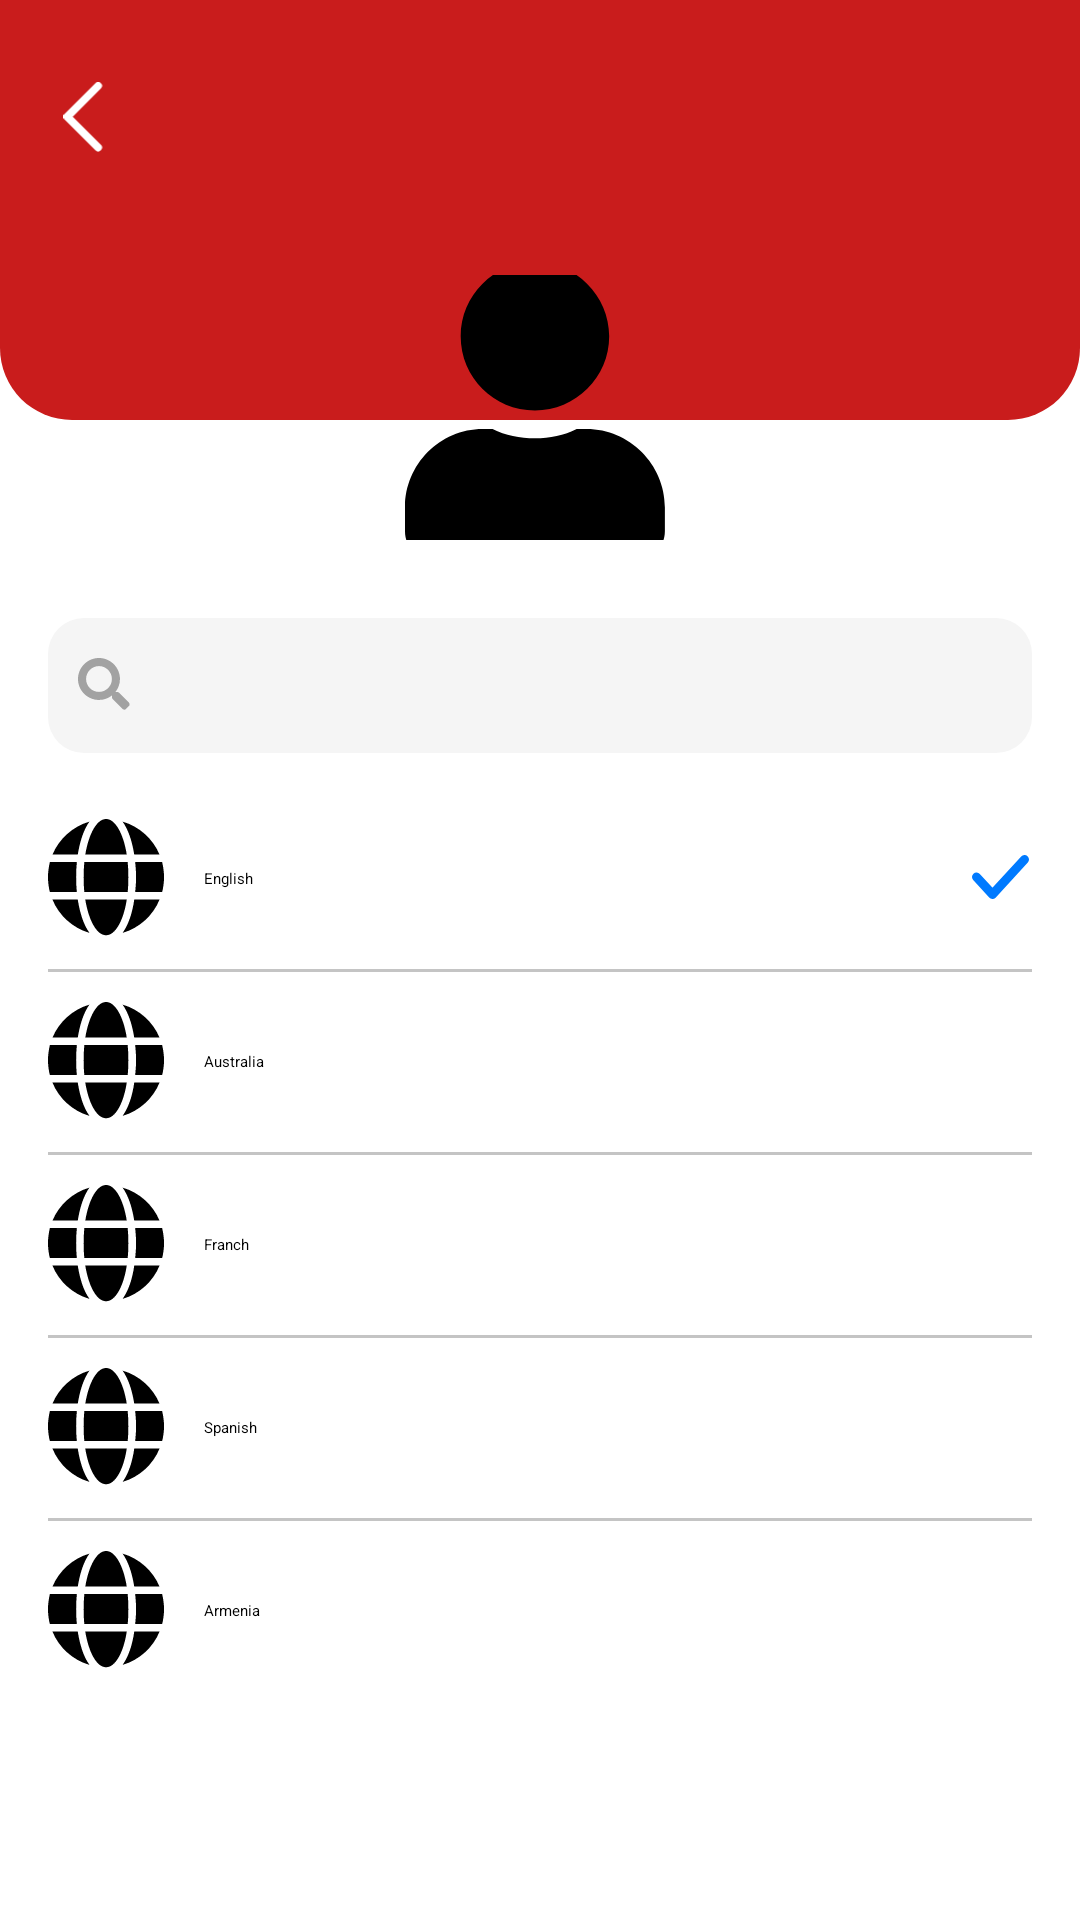

Where to tap for icons on this 1080x1920 app screen, as (x,y):
arrow left: (83,117)
check: (1000,877)
globe: (106,877), (106,1060), (106,1243), (106,1426), (106,1609)
search: (104,684)
user: (540,407)
